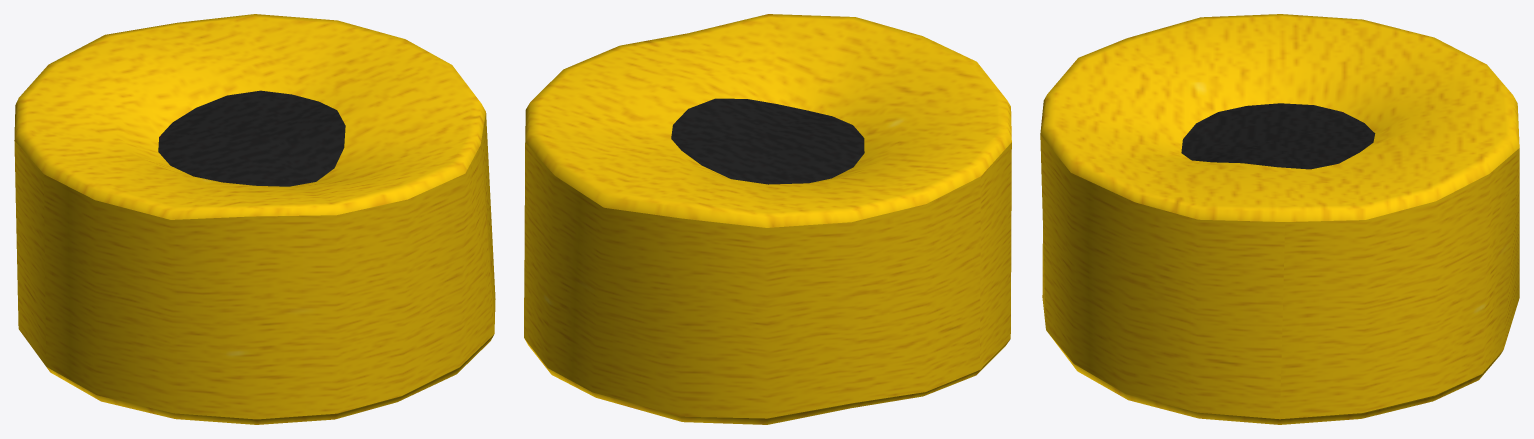
3 renders of one model, left to right at view 1: azimuth 30°, elevation 25°; view 2: azimuth 150°, elevation 25°; view 3: azimuth 270°, elevation 25°, orthographic.
Parts seen in each view (by area): view 1: YellowRound; view 2: YellowRound; view 3: YellowRound.
Part boxes in pixels (<box>): YellowRound: <box>14,14,495,424</box>; YellowRound: <box>524,14,1011,424</box>; YellowRound: <box>1040,14,1519,424</box>.
Size of the model in its own units: 178 by 87.98 by 175.
